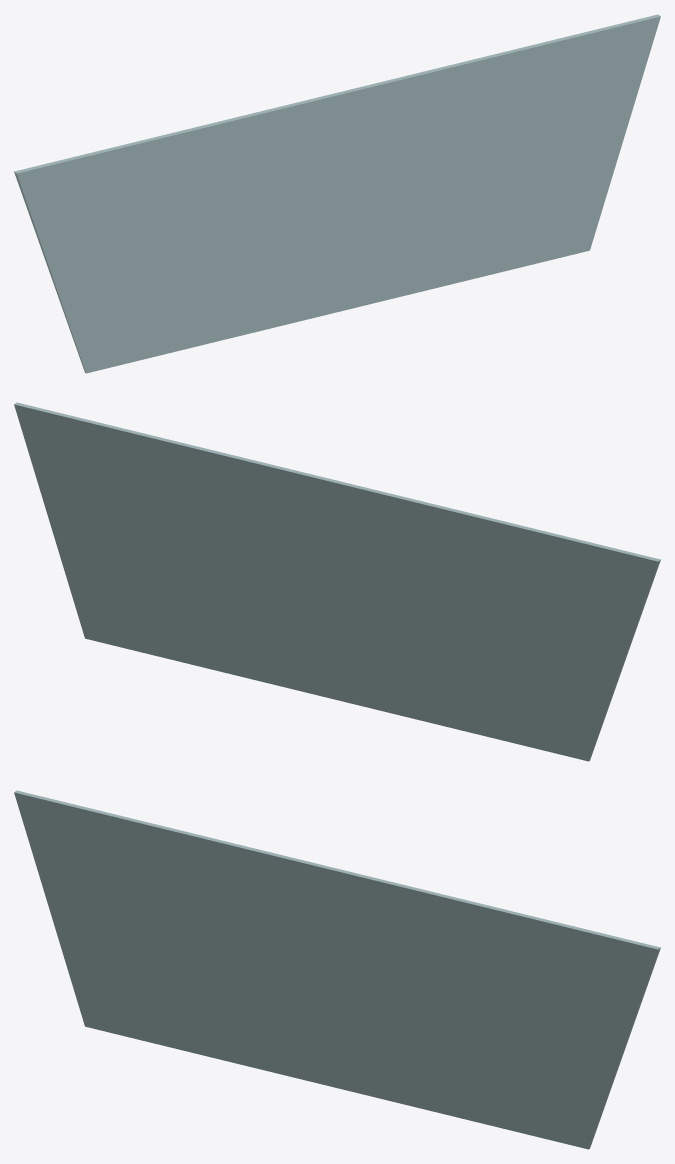
Rendered from duanmian4.glb.
3 renders of one model, top to bottom at view 1: azimuth 30°, elevation 25°; view 2: azimuth 150°, elevation 25°; view 3: azimuth 330°, elevation 25°, orthographic.
Parts seen in each view (by area): view 1: Cube; view 2: Cube; view 3: Cube.
Part boxes in pixels (x1=…): Cube: x1=14, y1=14, x2=660, y2=373; Cube: x1=14, y1=402, x2=660, y2=761; Cube: x1=14, y1=790, x2=660, y2=1149.
Size of the model in its own units: 6.19 by 2 by 0.0468.
